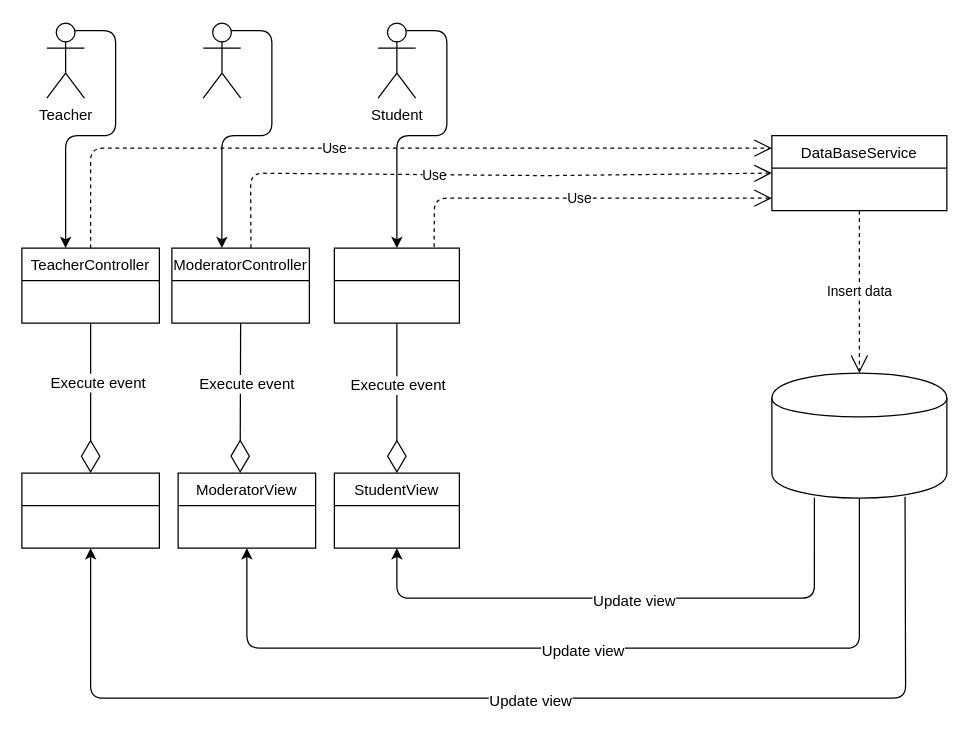
The diagram is 969 pixels wide and 731 high, and some of its shapes have lost their labels. The shapes that lost their labels are listed below. From the top down, each one's box as (x1, y1, x2, y2) in pixels, then its label:
(202, 22, 241, 98): Moderator
(333, 247, 459, 323): StudentController
(771, 372, 947, 498): Database
(21, 472, 159, 548): TeacherView
